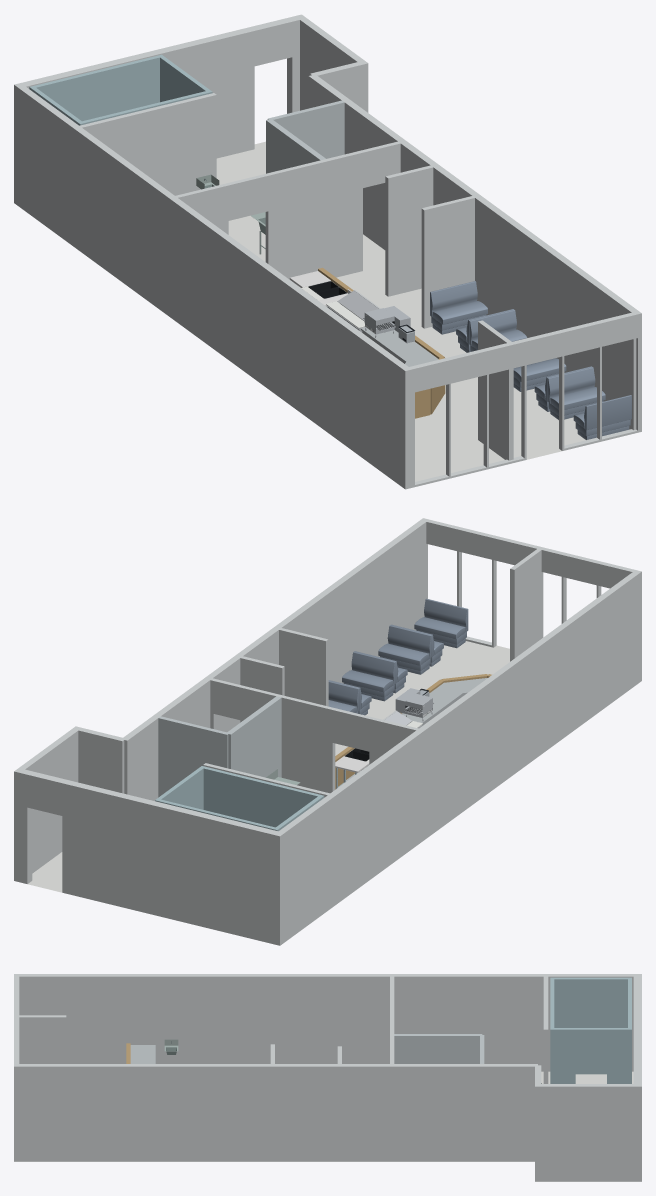
3 views of the same model, one above another, from view 1: azimuth 30°, elevation 25°; view 2: azimuth 150°, elevation 25°; view 3: azimuth 270°, elevation 25° (orthographic). The views are drawn at different scales.
Parts seen in each view (by area): view 1: WestWall-segment-001, EastMainWall-segment-001, PreviewFloorDatum_NoConstructionThickness, CoolerSurroundSouth-segment-001, KitchenRestroomSouth-segment-004, BoothNorthPartition-segment-001, BeverageNorthPartition-segment-001, CoolerNorth-segment-001, RearWall-segment-003, KitchenRestroomSouth-segment-005, RearWall-segment-001, EntryScreenPartition-segment-003 (+23 smaller); view 2: WestWall-segment-001, EastMainWall-segment-001, RearWall-segment-001, RearWall-segment-003, PreviewFloorDatum_NoConstructionThickness, CoolerSouth-segment-002, EastRearWall-segment-001, BoothNorthPartition-segment-001, KitchenRestroomSouth-segment-004, KitchenRestroomSouth-segment-005, RestroomNorth-segment-003, RearBayReturn-segment-001 (+26 smaller); view 3: EastMainWall-segment-001, WestWall-segment-001, EastRearWall-segment-001, CoolerWest-segment-001, RestroomWest-segment-002, EntryScreenPartition-segment-003, CoolerEast-segment-005, EntryScreenPartition-segment-002, PreviewFloorDatum_NoConstructionThickness, RearWall-segment-003, CoolerEast-segment-008, CoolerEast-segment-003 (+5 smaller).
Boxes of the visible parts, x1,y1,x2,y2 form: WestWall-segment-001: [16, 85, 409, 487]; EastMainWall-segment-001: [308, 74, 639, 430]; PreviewFloorDatum_NoConstructionThickness: [216, 141, 585, 481]; CoolerSurroundSouth-segment-001: [79, 93, 216, 195]; KitchenRestroomSouth-segment-004: [265, 188, 362, 285]; BoothNorthPartition-segment-001: [421, 196, 474, 328]; BeverageNorthPartition-segment-001: [385, 165, 433, 296]; CoolerNorth-segment-001: [34, 55, 161, 121]; RearWall-segment-003: [21, 27, 254, 88]; KitchenRestroomSouth-segment-005: [266, 150, 362, 211]; RearWall-segment-001: [197, 66, 254, 158]; EntryScreenPartition-segment-003: [478, 345, 513, 460]; WestWall-segment-001: [276, 571, 640, 943]; EastMainWall-segment-001: [121, 519, 427, 800]; RearWall-segment-001: [62, 816, 273, 944]; RearWall-segment-003: [62, 780, 277, 867]; PreviewFloorDatum_NoConstructionThickness: [27, 641, 509, 892]; CoolerSouth-segment-002: [202, 767, 318, 827]; EastRearWall-segment-001: [16, 727, 79, 873]; BoothNorthPartition-segment-001: [279, 628, 328, 706]; KitchenRestroomSouth-segment-004: [281, 730, 335, 793]; KitchenRestroomSouth-segment-005: [245, 687, 334, 742]; RestroomNorth-segment-003: [158, 716, 226, 766]; RearBayReturn-segment-001: [78, 728, 122, 792]; EastMainWall-segment-001: [16, 1064, 537, 1161]; WestWall-segment-001: [16, 974, 637, 1071]; EastRearWall-segment-001: [538, 1084, 637, 1181]; CoolerWest-segment-001: [552, 977, 629, 1074]; RestroomWest-segment-002: [394, 1034, 482, 1063]; EntryScreenPartition-segment-003: [19, 1036, 66, 1063]; CoolerEast-segment-005: [575, 1028, 606, 1061]; EntryScreenPartition-segment-002: [19, 1015, 66, 1036]; PreviewFloorDatum_NoConstructionThickness: [14, 1071, 641, 1181]; RearWall-segment-003: [633, 976, 641, 1066]; CoolerEast-segment-008: [552, 1028, 575, 1061]; CoolerEast-segment-003: [607, 1028, 627, 1061].
Size of the model in its own units: 7.75 by 3.05 by 18.26.
56 materials, 9 textured.
